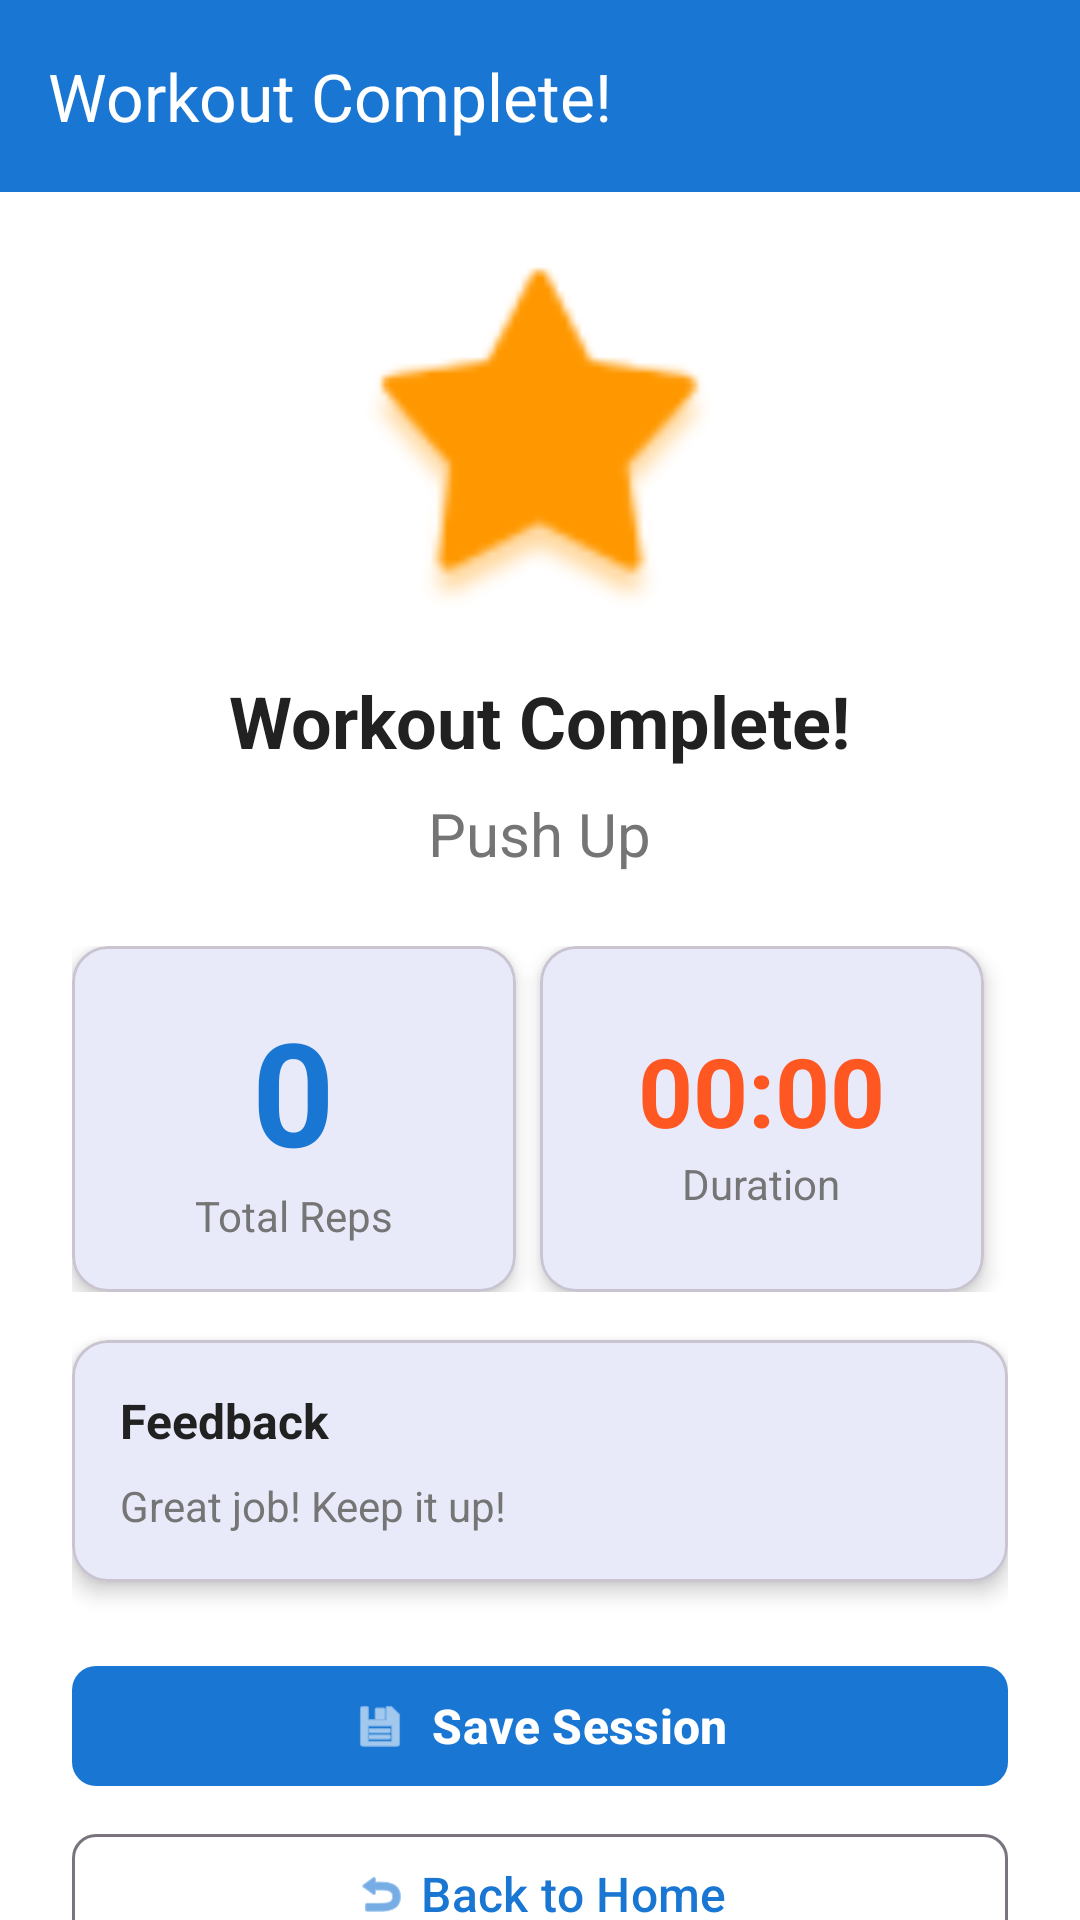

Where icons sit on this 1080px x 1920px app screen, as [x1,y1,x2,y2]:
Success: [380,268,700,595]
